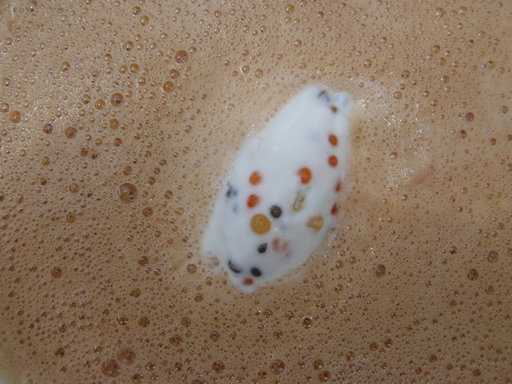soup: (1, 1, 510, 381)
